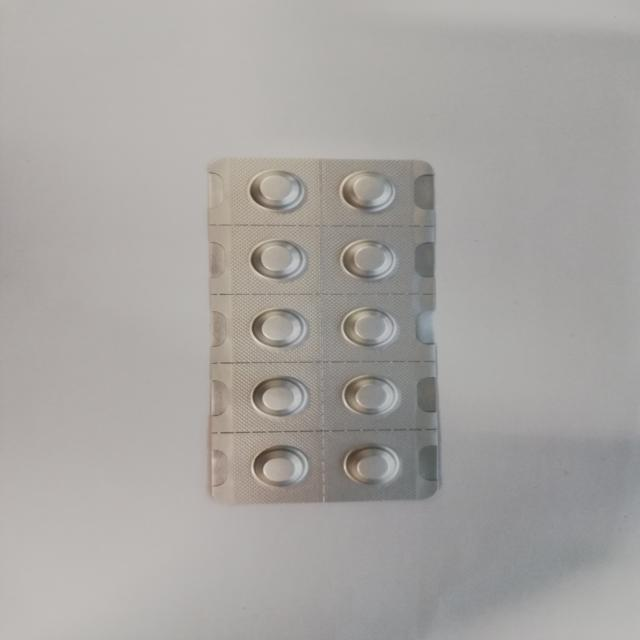Pill: (239, 162, 317, 221), (244, 439, 313, 499), (339, 371, 415, 425), (235, 234, 317, 284), (240, 371, 318, 422), (330, 236, 406, 285), (330, 304, 400, 354), (333, 164, 400, 215), (239, 304, 313, 350), (340, 442, 406, 493)
